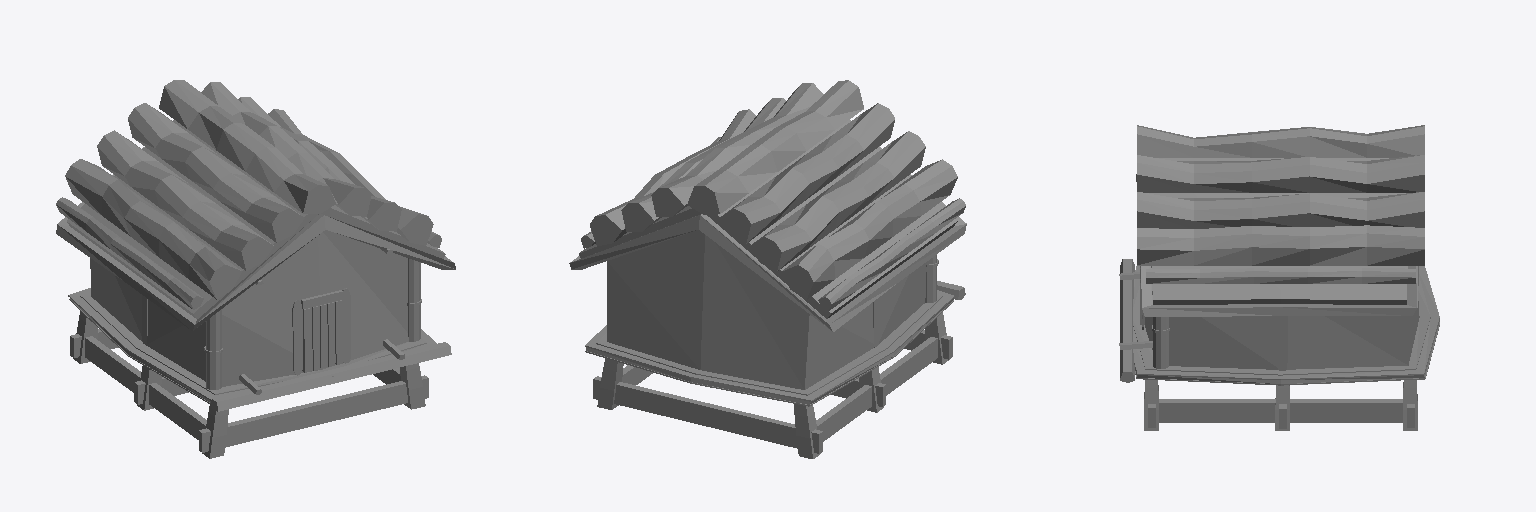
File: houseobj.obj
The picture shows the model from 3 angles: view 1: azimuth 30°, elevation 25°; view 2: azimuth 150°, elevation 25°; view 3: azimuth 270°, elevation 25°; orthographic projection.
Visible parts, largest first — view 1: Jotunheim_House004_soleiman_refine, log007, Box020; view 2: Jotunheim_House004_soleiman_refine, log007; view 3: log007, Jotunheim_House004_soleiman_refine.
Part boxes in pixels (x1,y1,x2,y2): Jotunheim_House004_soleiman_refine: (56, 120, 455, 458); log007: (56, 80, 441, 309); Box020: (292, 288, 350, 375); Jotunheim_House004_soleiman_refine: (569, 120, 966, 458); log007: (581, 80, 965, 311); log007: (1137, 125, 1424, 283); Jotunheim_House004_soleiman_refine: (1119, 158, 1439, 430).
Size of the model in its own units: 10.8 by 9.75 by 11.31.